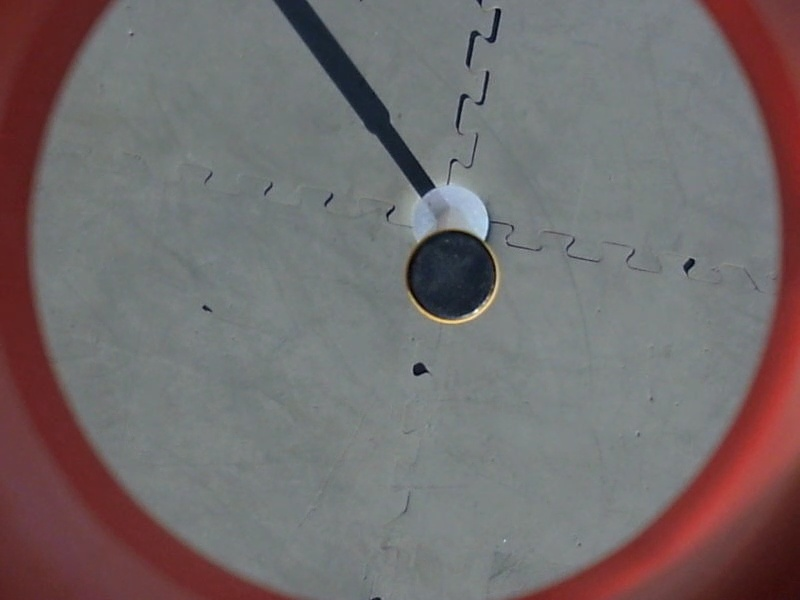tip: (402, 226, 504, 330)
